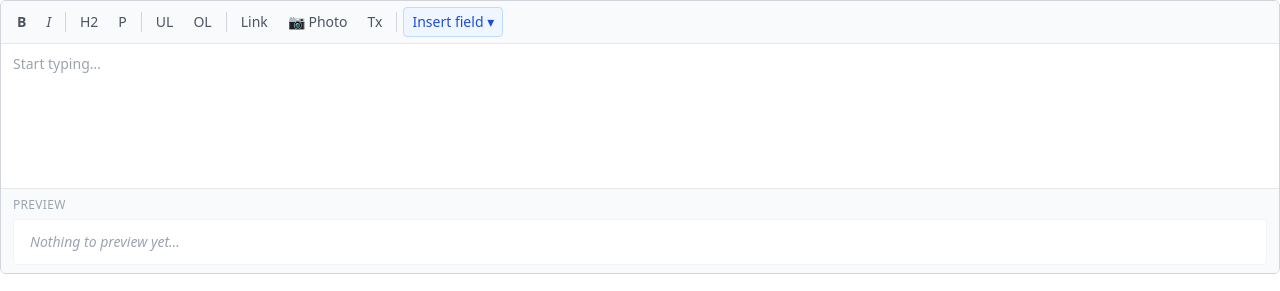
Scenario: RichTextEditor › "Insert field" button opens a menu with all available field options
The image size is (1280, 291).
Press the mouse on the button "Insert field ▾" at (453, 22), box x1=404 y1=7 x2=503 y2=37
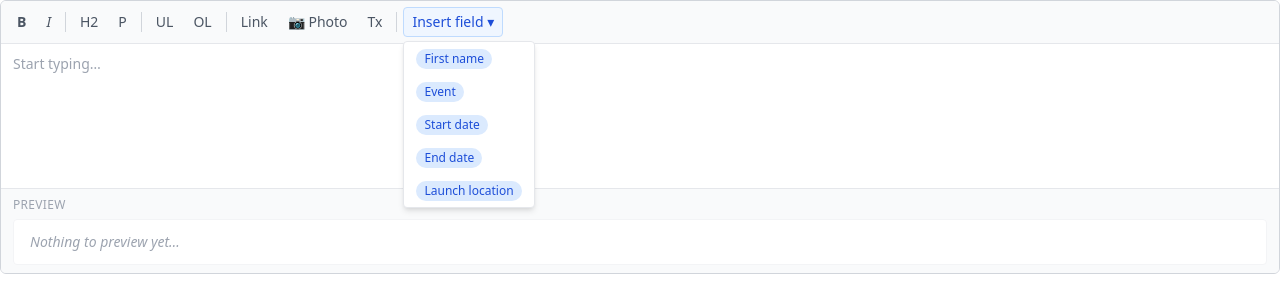
Expected: the text "First name" is shown, x1=416 y1=49 x2=492 y2=69
Expected: the text "Event" is shown, x1=416 y1=82 x2=464 y2=102
Expected: the text "Start date" is shown, x1=416 y1=115 x2=488 y2=135
